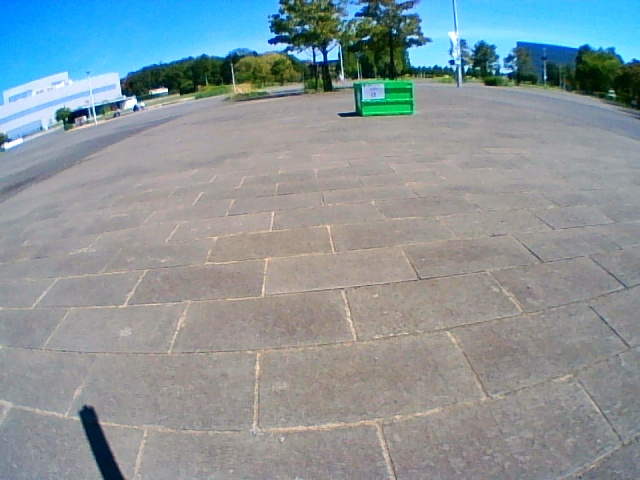green_box: (354, 82, 412, 115)
tag: (362, 86, 381, 99)
